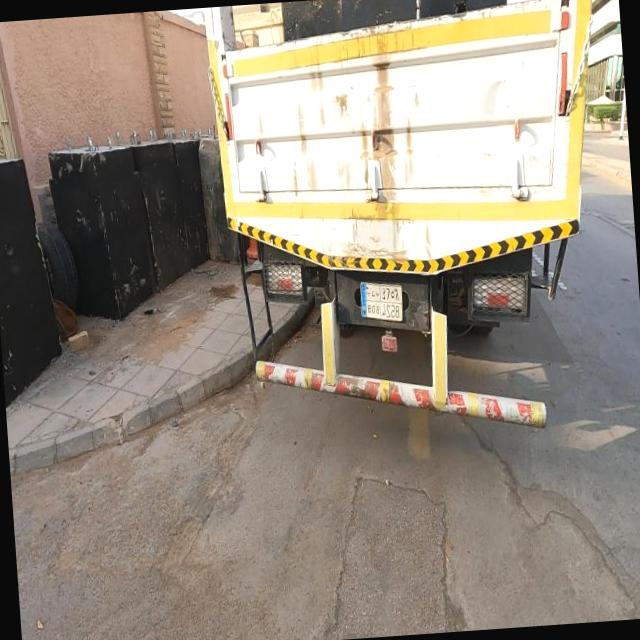debris: (13, 140, 103, 416), (124, 276, 181, 348)
